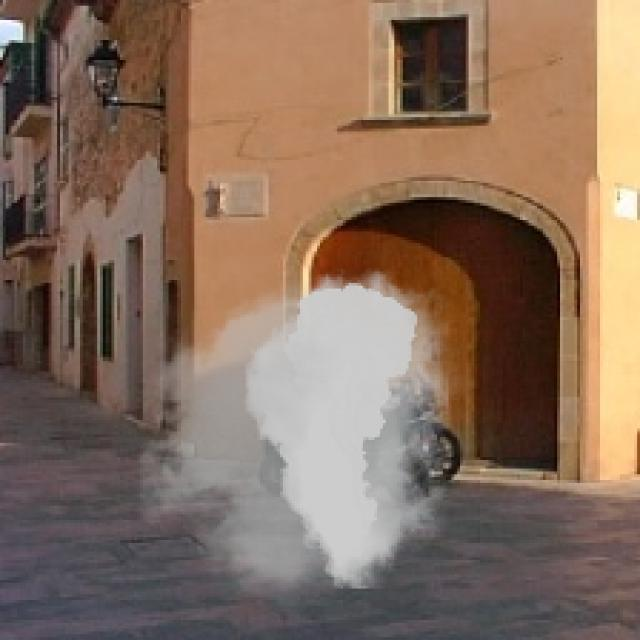smoke: (117, 260, 477, 611)
